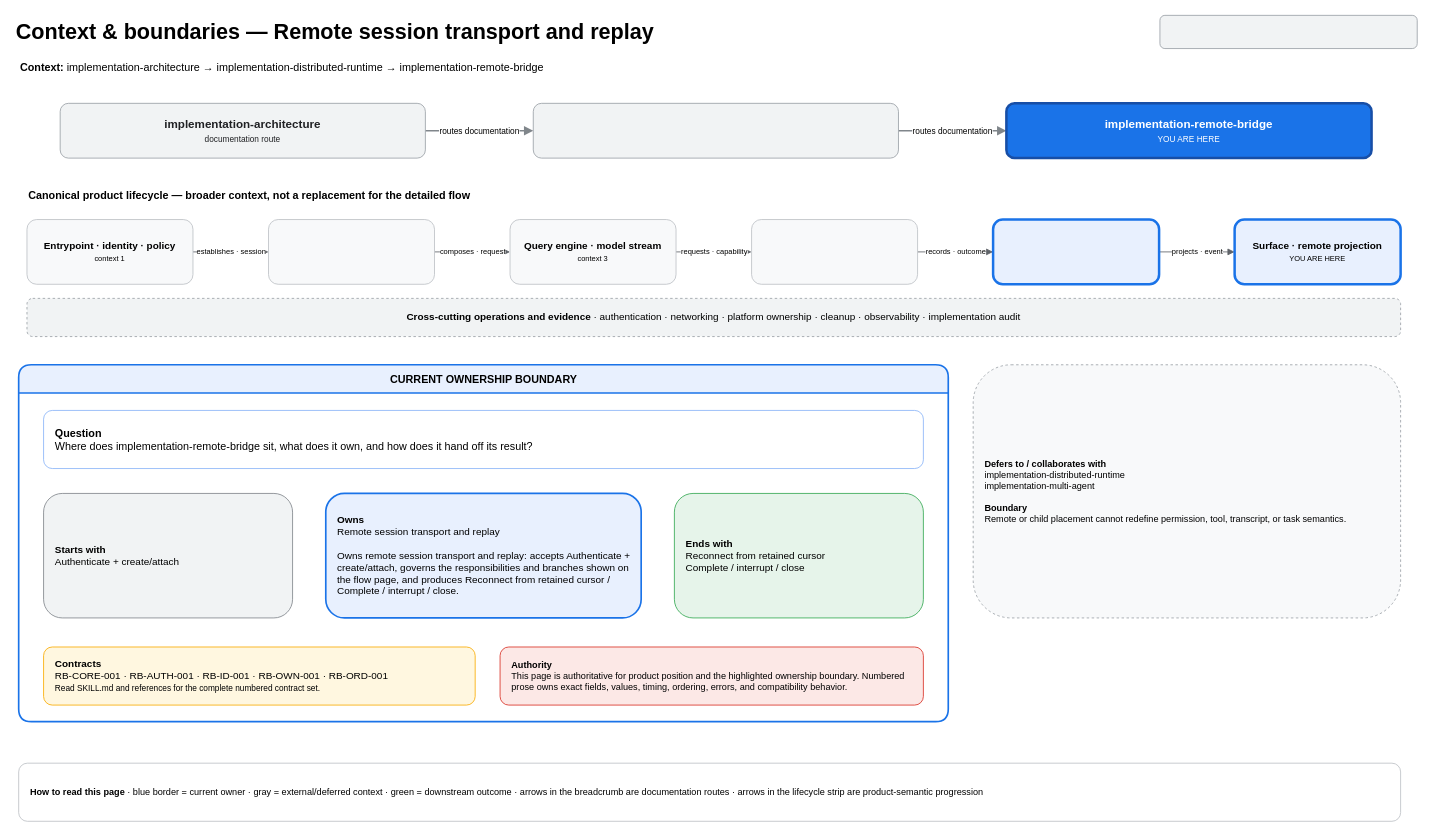
Image size: 1432x836. Some labels were removed from this diagram. Here are the shapes that lost their labels. From the top down, the centre of each, then its label:
the point at 1288,32: architecture overview · template 2.0-context-flow
the point at 715,130: implementation-distributed-runtime documentation route
the point at 351,251: Session state · registries · context context 2
the point at 834,251: Capability decision · execution context 4
the point at 1075,251: Transcript · tasks · continuity YOU ARE HERE
